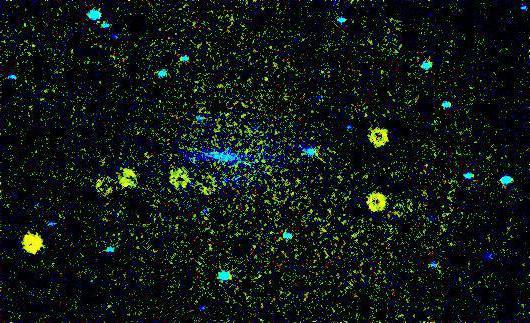star: (216, 164, 246, 194)
